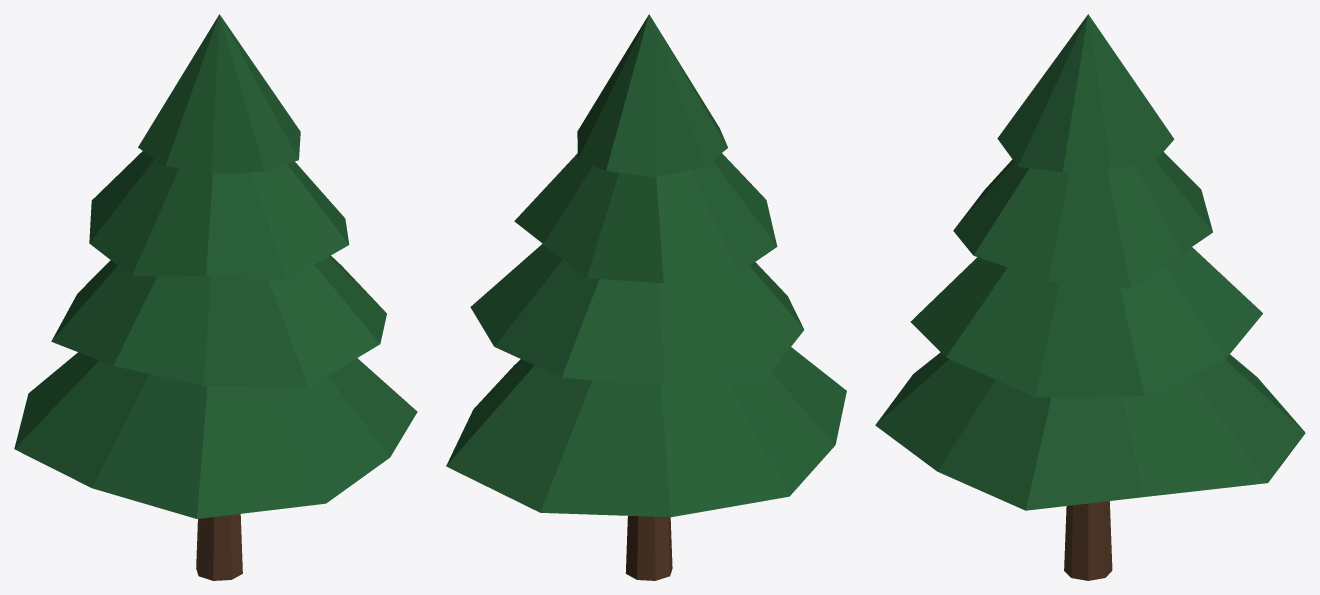
The model's file is Tree_Pine.fbx.
3 renders of one model, left to right at view 1: azimuth 30°, elevation 25°; view 2: azimuth 150°, elevation 25°; view 3: azimuth 270°, elevation 25°, orthographic.
Visible parts, largest first — view 1: Tree_Pine; view 2: Tree_Pine; view 3: Tree_Pine.
Boxes of the visible parts, bbox=[...] form: Tree_Pine: bbox=[14, 14, 417, 580]; Tree_Pine: bbox=[446, 14, 846, 580]; Tree_Pine: bbox=[875, 14, 1305, 580].
Size of the model in its own units: 2.59 by 4.06 by 2.85.
